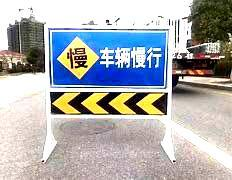sign: (45, 26, 169, 117)
